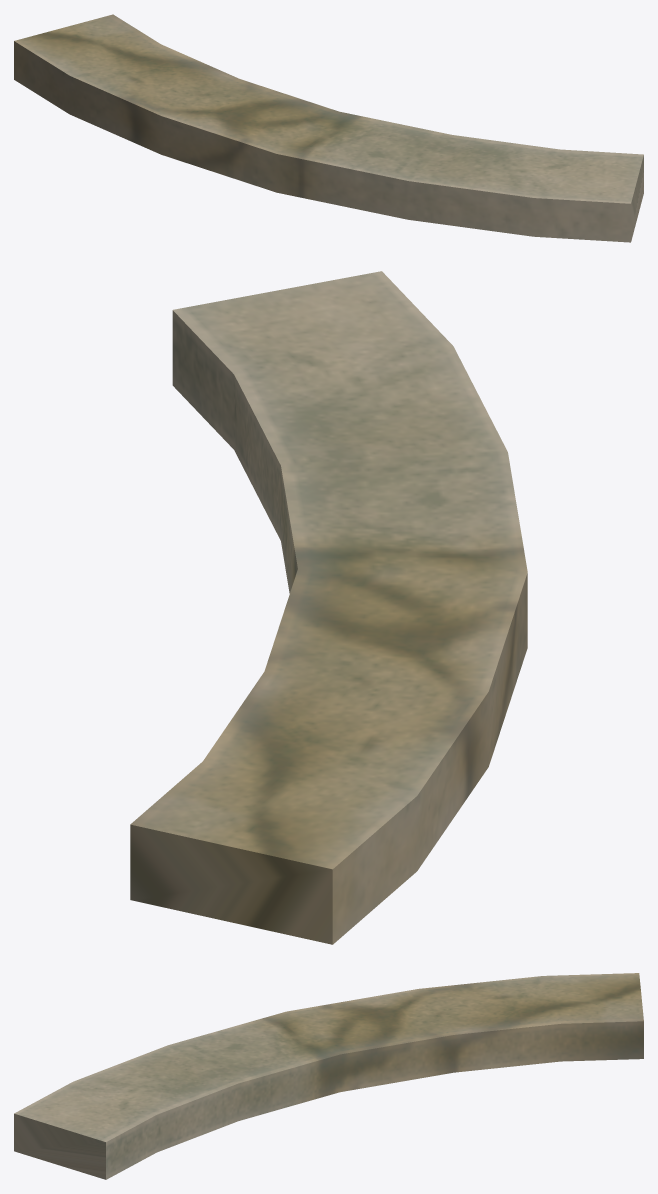
Rendered from pavilion05.fbx.
3 renders of one model, top to bottom at view 1: azimuth 30°, elevation 25°; view 2: azimuth 150°, elevation 25°; view 3: azimuth 270°, elevation 25°, orthographic. The views are drawn at different scales.
Parts seen in each view (by area): view 1: Cylinder.004; view 2: Cylinder.004; view 3: Cylinder.004.
Boxes of the visible parts, x1,y1,x2,y2 form: Cylinder.004: (14, 14, 643, 242); Cylinder.004: (130, 271, 527, 944); Cylinder.004: (14, 973, 643, 1179).
Size of the model in its own units: 136 by 14.14 by 214.
